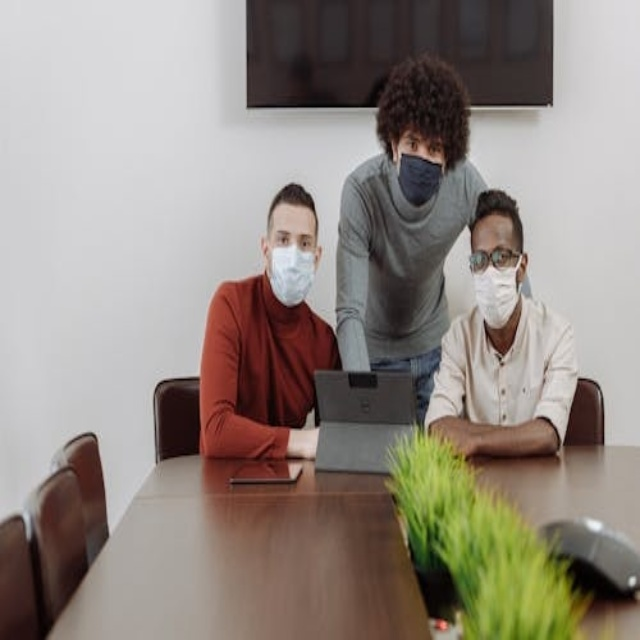Gafas: (468, 248, 523, 273)
Mascara: (472, 255, 523, 326), (268, 244, 316, 306), (397, 152, 443, 206)
Sin_gafas: (394, 131, 444, 165), (270, 227, 316, 254)
